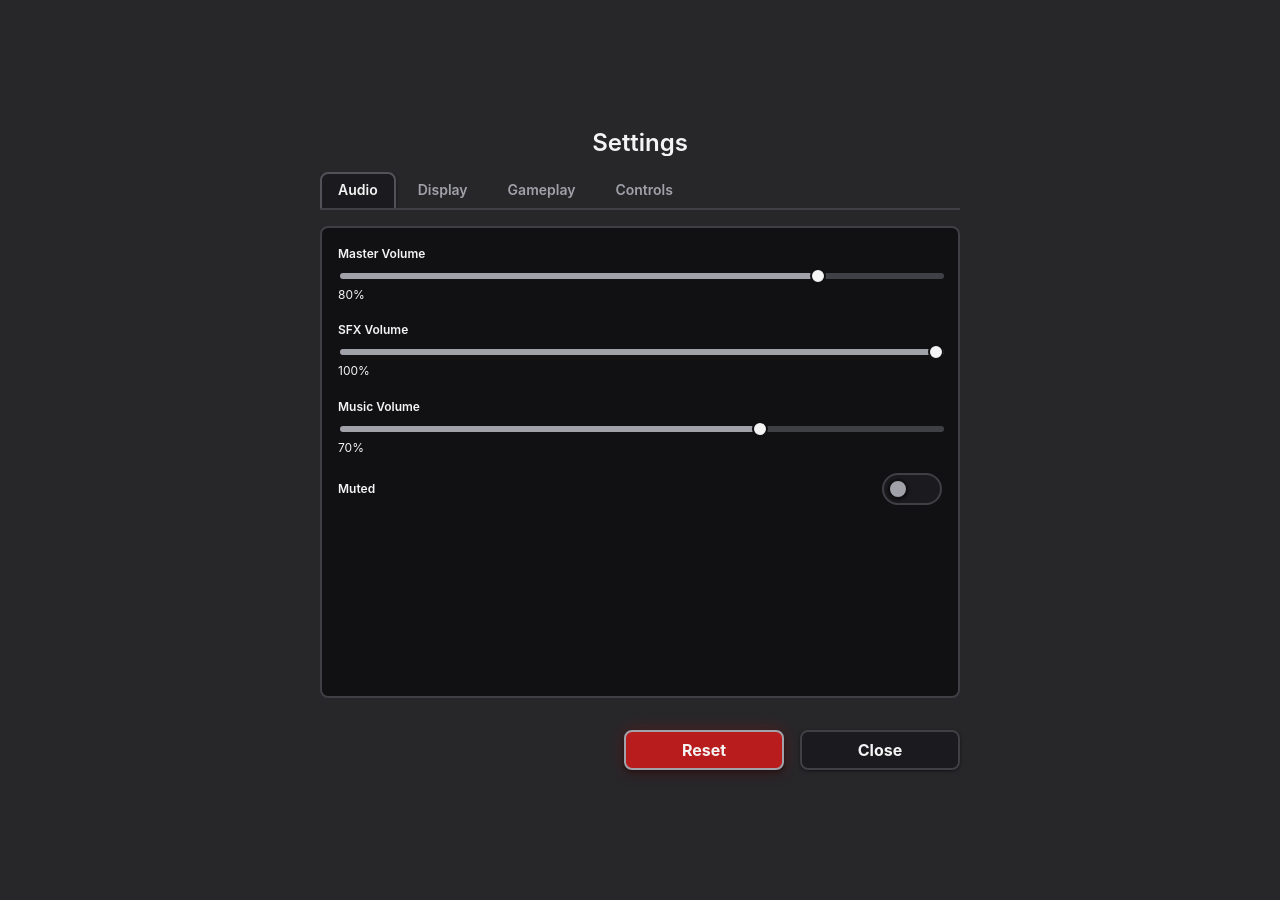
Scenario: SettingsPage — tabbed definition rendering › hydrates the shadow-quality tier from the store as a name, not a number
Expected: the tab "Audio" is shown, 320,172 -> 396,208
Click the tab "Display" at (443, 190), box 400,172 -> 486,208
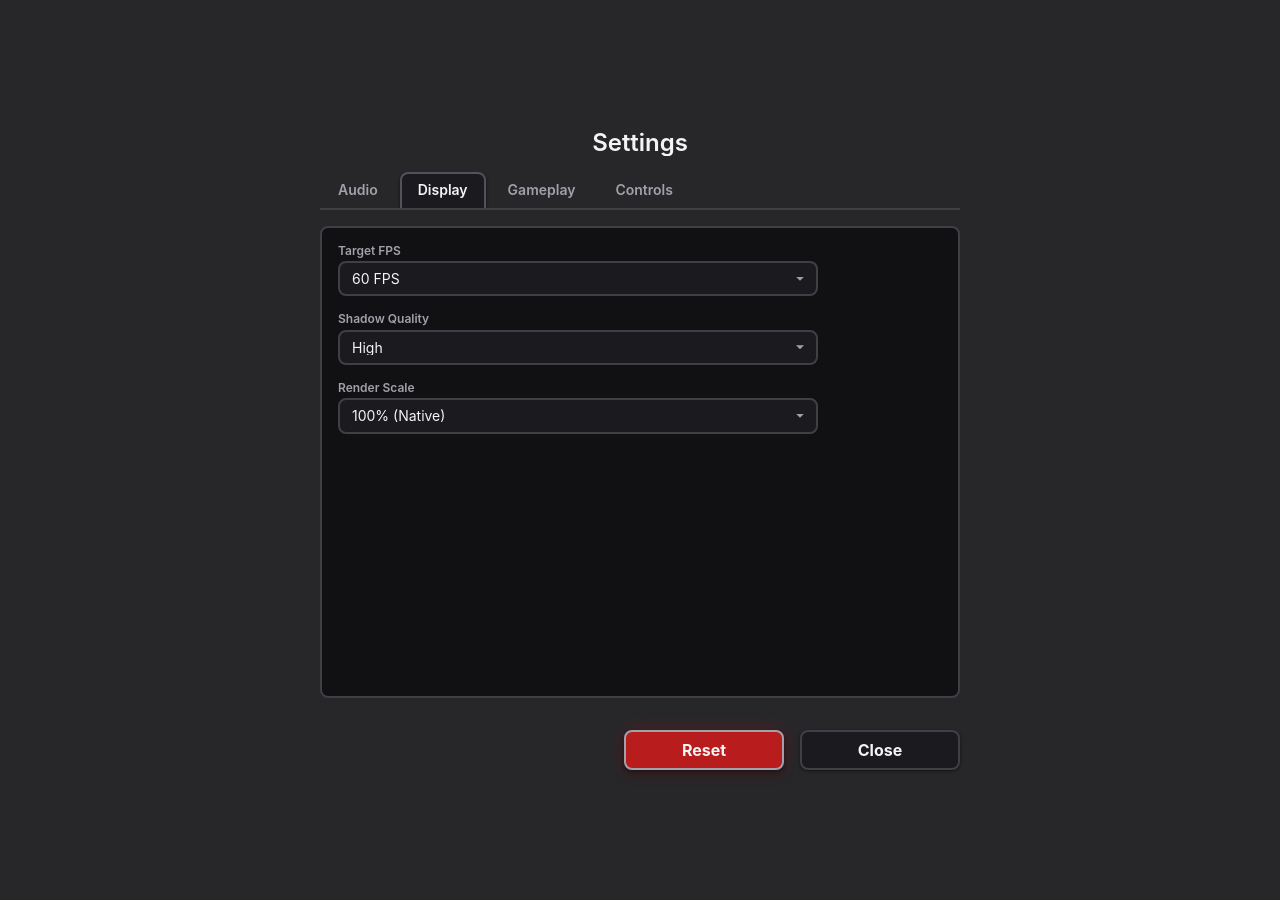
Result: the dropdown labelled "Shadow Quality" shows "High" at 340,332 -> 816,363
